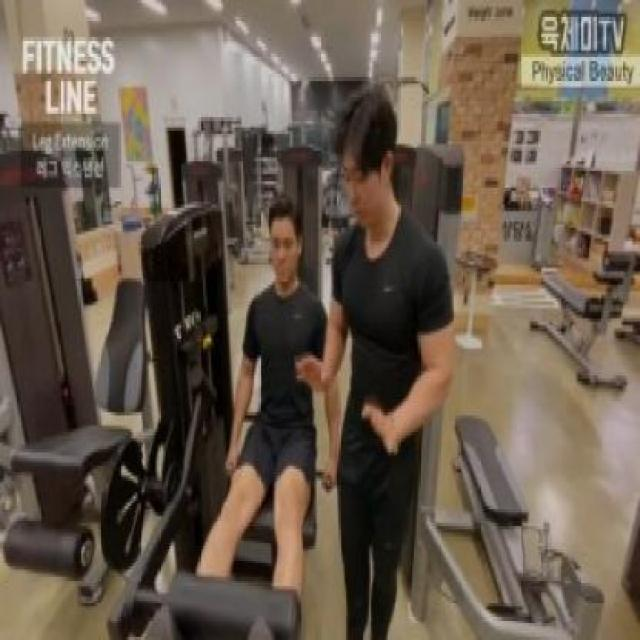leg extension: (91, 120, 371, 640)
